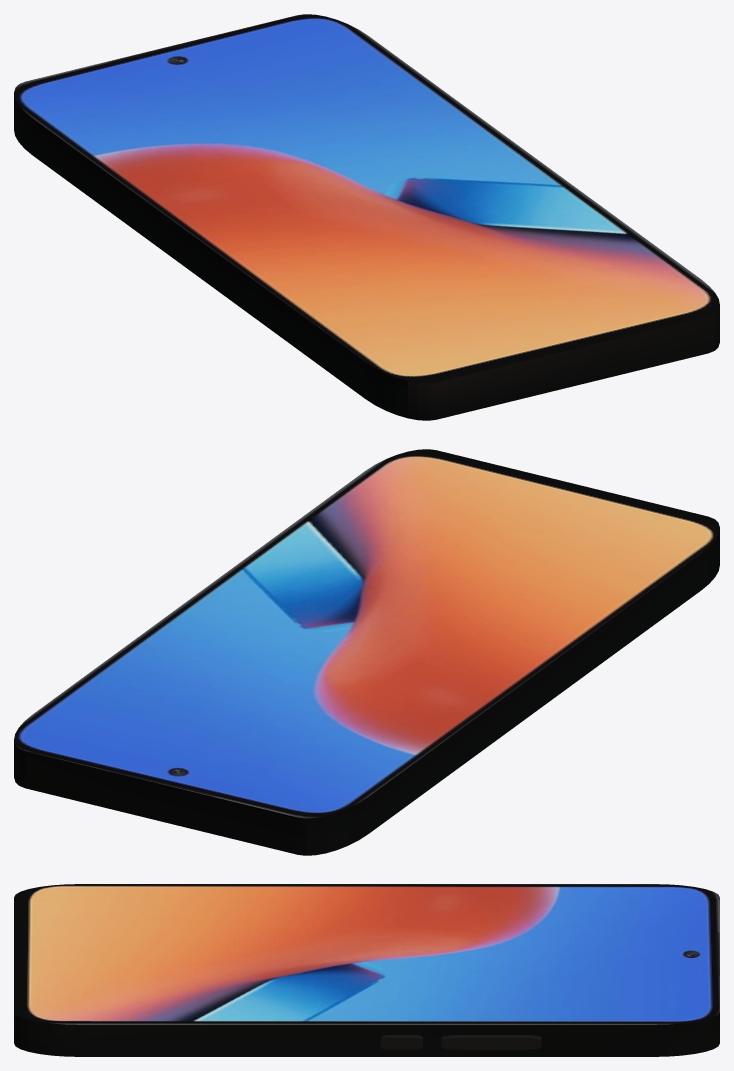
Rendered from xiaomi_redmi_12.glb.
3 renders of one model, top to bottom at view 1: azimuth 30°, elevation 25°; view 2: azimuth 150°, elevation 25°; view 3: azimuth 270°, elevation 25°, orthographic. The views are drawn at different scales.
Visible parts, largest first — view 1: Cube; view 2: Cube; view 3: Cube, Cube.001, Cube.002.
Boxes of the visible parts, <box> form: Cube: <box>14,14,719,420</box>; Cube: <box>14,449,719,855</box>; Cube: <box>14,884,719,1056</box>; Cube.001: <box>441,1035,541,1049</box>; Cube.002: <box>380,1035,422,1049</box>.
Bounding box in the file's own units: 2.04 × 0.2224 × 4.23.
Materials: 3 (2 with a texture image).
